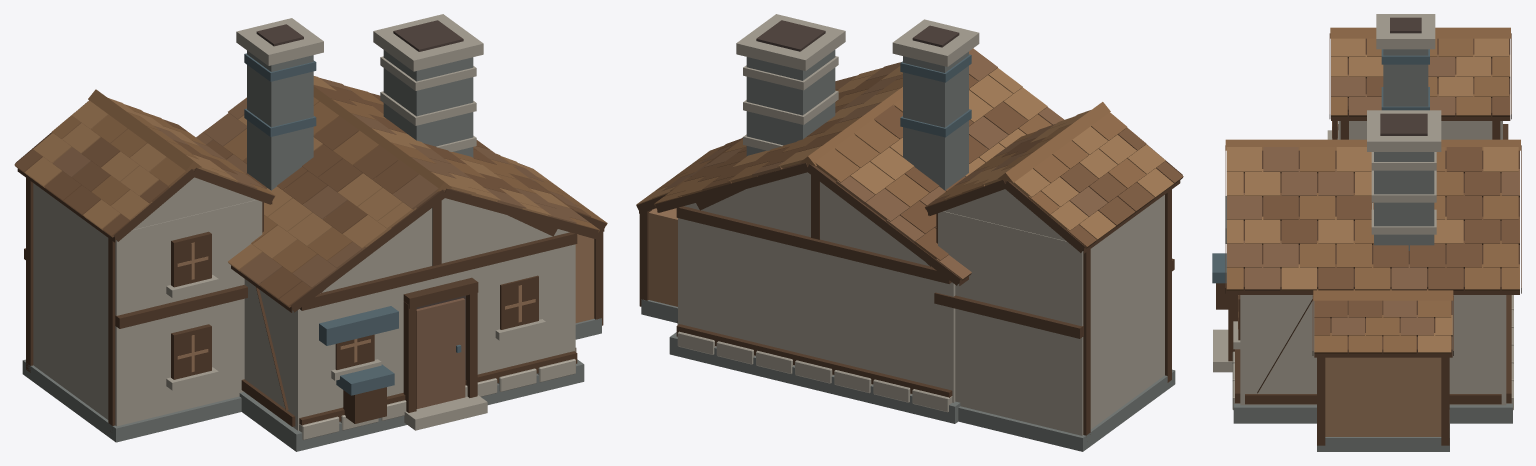
File: ENV_Civic_forge_LOD0.glb
3 views of the same model, side by side, from view 1: azimuth 30°, elevation 25°; view 2: azimuth 150°, elevation 25°; view 3: azimuth 270°, elevation 25° (orthographic). The views are drawn at different scales.
Visible parts, largest first — view 1: ENV_Civic_forge_LOD0_stage7_upper_wing_stone, ENV_Civic_forge_LOD0_shell_stone, ENV_Civic_forge_LOD0_roof_roofTiles, ENV_Civic_forge_LOD0_stage7_upper_wing_roofTiles, ENV_Civic_forge_LOD0_shell_woodDark, ENV_Civic_forge_LOD0_stage7_upper_wing_woodDark, ENV_Civic_forge_LOD0_stage8_roof_lantern_stoneDark, ENV_Civic_forge_LOD0_forge_identity_stoneDark, ENV_Civic_forge_LOD0_forge_identity_stone, ENV_Civic_forge_LOD0_shell_wood, ENV_Civic_forge_LOD0_foundation_stoneDark, ENV_Civic_forge_LOD0_stage7_upper_wing_stoneDark (+11 smaller); view 2: ENV_Civic_forge_LOD0_stage7_upper_wing_stone, ENV_Civic_forge_LOD0_shell_stone, ENV_Civic_forge_LOD0_roof_roofTiles, ENV_Civic_forge_LOD0_stage7_upper_wing_roofTiles, ENV_Civic_forge_LOD0_stage7_upper_wing_woodDark, ENV_Civic_forge_LOD0_shell_woodDark, ENV_Civic_forge_LOD0_stage8_roof_lantern_stoneDark, ENV_Civic_forge_LOD0_forge_identity_stoneDark, ENV_Civic_forge_LOD0_forge_identity_stone, ENV_Civic_forge_LOD0_foundation_stone, ENV_Civic_forge_LOD0_stage7_upper_wing_stoneDark, ENV_Civic_forge_LOD0_foundation_stoneDark (+9 smaller); view 3: ENV_Civic_forge_LOD0_roof_roofTiles, ENV_Civic_forge_LOD0_shell_stone, ENV_Civic_forge_LOD0_stage7_upper_wing_roofTiles, ENV_Civic_forge_LOD0_stage5_shed_woodLight, ENV_Civic_forge_LOD0_stage5_shed_roofTiles, ENV_Civic_forge_LOD0_forge_identity_stoneDark, ENV_Civic_forge_LOD0_forge_identity_stone, ENV_Civic_forge_LOD0_shell_woodDark, ENV_Civic_forge_LOD0_foundation_stoneDark, ENV_Civic_forge_LOD0_stage5_shed_woodDark, ENV_Civic_forge_LOD0_roof_woodDark, ENV_Civic_forge_LOD0_stage8_roof_lantern_stoneDark (+10 smaller).
Part boxes in pixels (left/top/right/bottom): ENV_Civic_forge_LOD0_stage7_upper_wing_stone: left=33, top=177, right=262, bottom=426; ENV_Civic_forge_LOD0_shell_stone: left=244, top=198, right=575, bottom=430; ENV_Civic_forge_LOD0_roof_roofTiles: left=196, top=76, right=599, bottom=307; ENV_Civic_forge_LOD0_stage7_upper_wing_roofTiles: left=14, top=89, right=275, bottom=237; ENV_Civic_forge_LOD0_shell_woodDark: left=241, top=197, right=577, bottom=426; ENV_Civic_forge_LOD0_stage7_upper_wing_woodDark: left=15, top=101, right=274, bottom=431; ENV_Civic_forge_LOD0_stage8_roof_lantern_stoneDark: left=247, top=50, right=313, bottom=190; ENV_Civic_forge_LOD0_forge_identity_stoneDark: left=383, top=50, right=473, bottom=157; ENV_Civic_forge_LOD0_forge_identity_stone: left=373, top=14, right=483, bottom=151; ENV_Civic_forge_LOD0_shell_wood: left=416, top=298, right=465, bottom=408; ENV_Civic_forge_LOD0_foundation_stoneDark: left=239, top=359, right=584, bottom=451; ENV_Civic_forge_LOD0_stage7_upper_wing_stoneDark: left=22, top=359, right=241, bottom=442; ENV_Civic_forge_LOD0_stage7_upper_wing_stone: left=938, top=189, right=1164, bottom=435; ENV_Civic_forge_LOD0_shell_stone: left=678, top=172, right=955, bottom=402; ENV_Civic_forge_LOD0_roof_roofTiles: left=654, top=48, right=1064, bottom=280; ENV_Civic_forge_LOD0_stage7_upper_wing_roofTiles: left=925, top=102, right=1183, bottom=248; ENV_Civic_forge_LOD0_stage7_upper_wing_woodDark: left=925, top=144, right=1182, bottom=435; ENV_Civic_forge_LOD0_shell_woodDark: left=676, top=171, right=952, bottom=397; ENV_Civic_forge_LOD0_stage8_roof_lantern_stoneDark: left=903, top=51, right=968, bottom=190; ENV_Civic_forge_LOD0_forge_identity_stoneDark: left=746, top=50, right=835, bottom=156; ENV_Civic_forge_LOD0_forge_identity_stone: left=736, top=14, right=845, bottom=150; ENV_Civic_forge_LOD0_foundation_stone: left=677, top=331, right=952, bottom=412; ENV_Civic_forge_LOD0_stage7_upper_wing_stoneDark: left=958, top=369, right=1175, bottom=451; ENV_Civic_forge_LOD0_foundation_stoneDark: left=669, top=332, right=960, bottom=423; ENV_Civic_forge_LOD0_roof_roofTiles: left=1225, top=139, right=1520, bottom=290; ENV_Civic_forge_LOD0_shell_stone: left=1213, top=295, right=1506, bottom=405; ENV_Civic_forge_LOD0_stage7_upper_wing_roofTiles: left=1330, top=27, right=1510, bottom=116; ENV_Civic_forge_LOD0_stage5_shed_woodLight: left=1325, top=357, right=1441, bottom=436; ENV_Civic_forge_LOD0_stage5_shed_roofTiles: left=1313, top=289, right=1453, bottom=353; ENV_Civic_forge_LOD0_forge_identity_stoneDark: left=1374, top=152, right=1434, bottom=250; ENV_Civic_forge_LOD0_forge_identity_stone: left=1367, top=110, right=1441, bottom=234; ENV_Civic_forge_LOD0_shell_woodDark: left=1228, top=295, right=1511, bottom=404; ENV_Civic_forge_LOD0_foundation_stoneDark: left=1233, top=404, right=1512, bottom=423; ENV_Civic_forge_LOD0_stage5_shed_woodDark: left=1312, top=295, right=1453, bottom=445; ENV_Civic_forge_LOD0_roof_woodDark: left=1225, top=145, right=1521, bottom=294; ENV_Civic_forge_LOD0_stage8_roof_lantern_stoneDark: left=1383, top=49, right=1428, bottom=106.
Size of the model in its own units: 8.76 by 5.68 by 5.23.
